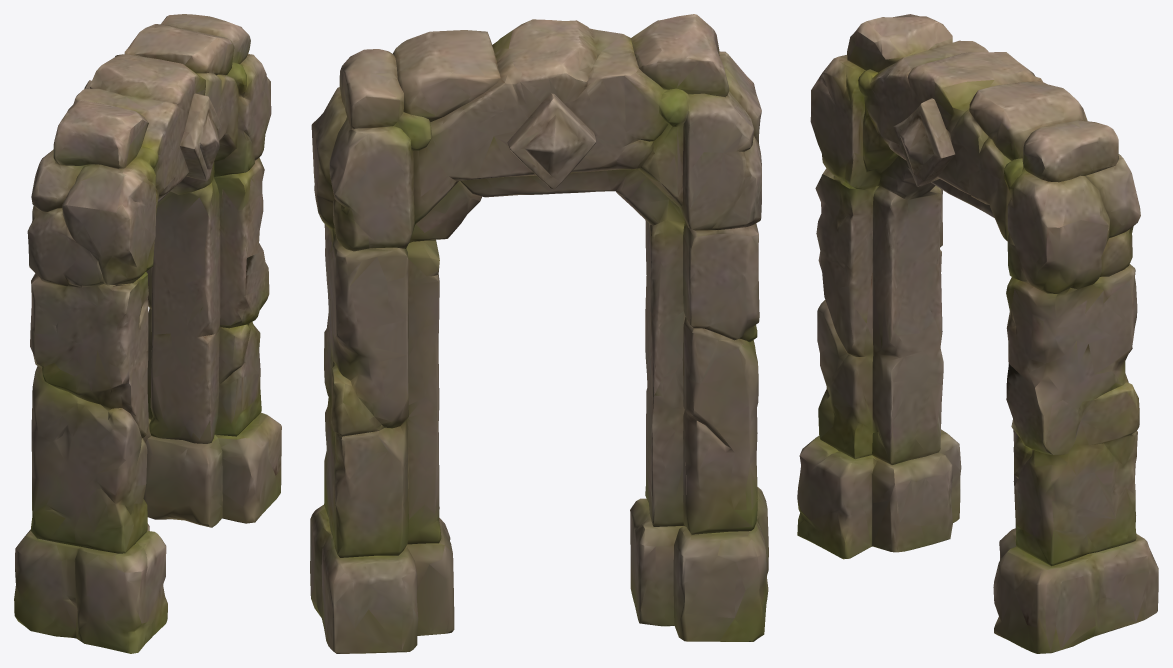
File: puerta_llave_marco_6000.glb
The picture shows the model from 3 angles, left to right: view 1: azimuth 30°, elevation 25°; view 2: azimuth 150°, elevation 25°; view 3: azimuth 270°, elevation 25°; orthographic projection. The views are drawn at different scales.
Parts seen in each view (by area): view 1: puerta_llave_marco_malla; view 2: puerta_llave_marco_malla; view 3: puerta_llave_marco_malla.
Part boxes in pixels (bbox=[...]): puerta_llave_marco_malla: bbox=[14, 14, 281, 653]; puerta_llave_marco_malla: bbox=[310, 14, 768, 653]; puerta_llave_marco_malla: bbox=[797, 14, 1158, 653].
Bounding box in the file's own units: 0.3048 × 0.4514 × 0.282.
1 material, 1 textured.
